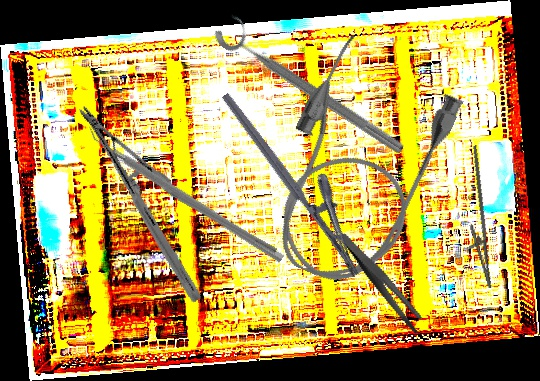Cannula: (244, 29, 470, 302)
Chopper: (145, 170, 282, 254)
Dressing Forceps: (337, 217, 427, 347)
Fixation Ring: (210, 9, 415, 160)
Needle Holder: (23, 102, 257, 306), (220, 74, 385, 279), (445, 145, 509, 291)
Spatula Surgical: (81, 123, 290, 264)
